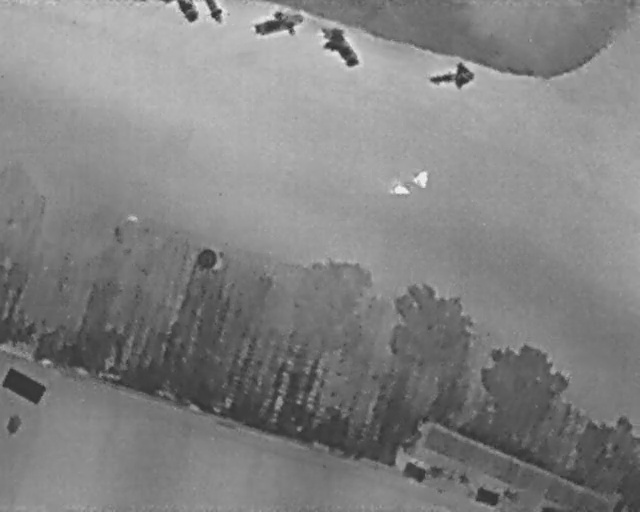Bicycle: (313, 17, 365, 77), (250, 3, 308, 42), (425, 59, 477, 92), (174, 0, 200, 22), (204, 0, 225, 25)
Person: (411, 169, 431, 188), (391, 182, 410, 197)
